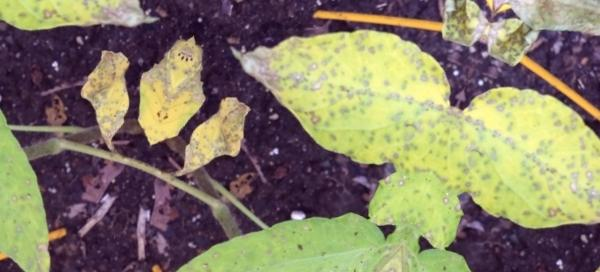Tomato Septoria leaf spot: (196, 0, 467, 196), (124, 146, 401, 272)
